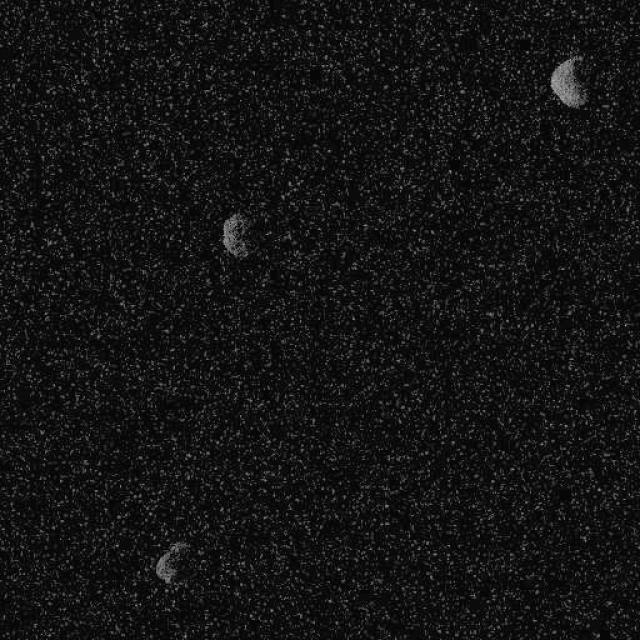D2: (549, 54, 590, 108), (154, 539, 190, 585), (220, 210, 250, 259)
